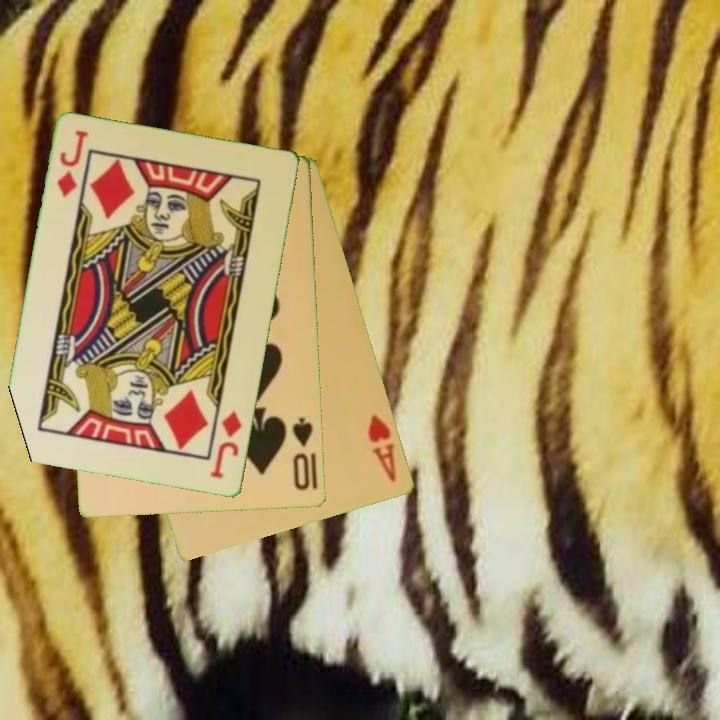10s: (289, 414, 316, 494)
Ah: (364, 411, 400, 486)
Jd: (207, 408, 245, 482), (54, 127, 92, 200)
